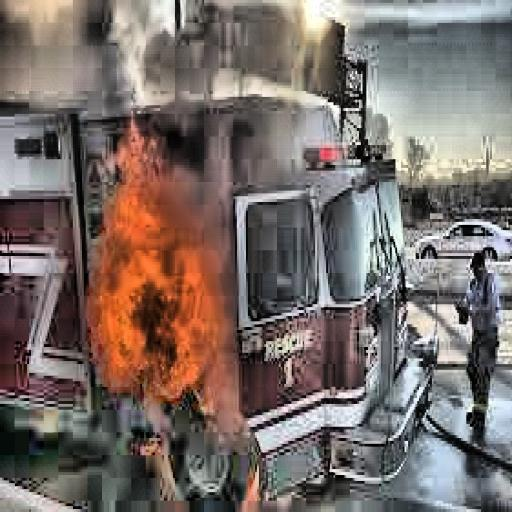fire: (77, 136, 255, 406)
